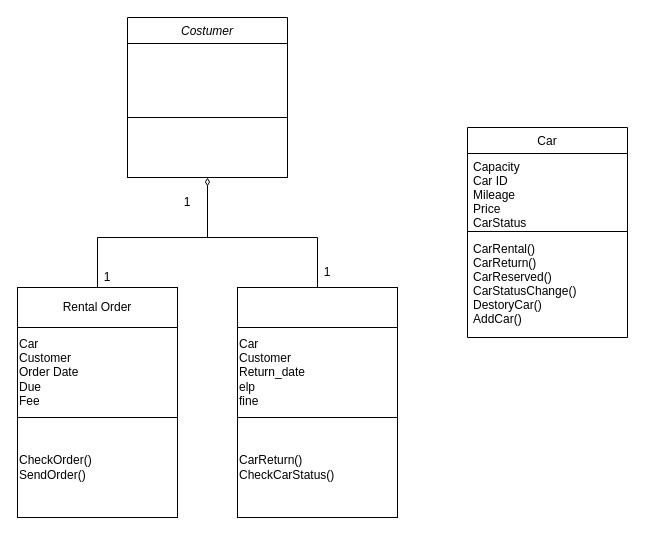
The diagram is 645 pixels wide and 535 high, and some of its shapes have lost their labels. The shapes that lost their labels are listed below. From the top down, each one's centre as x and y in pixels, then its label:
At point 207,80: "Name Adress PhoneNumber Credit".
At point 207,147: "PlaceOrder()".
At point 317,307: "ReturnCar".
